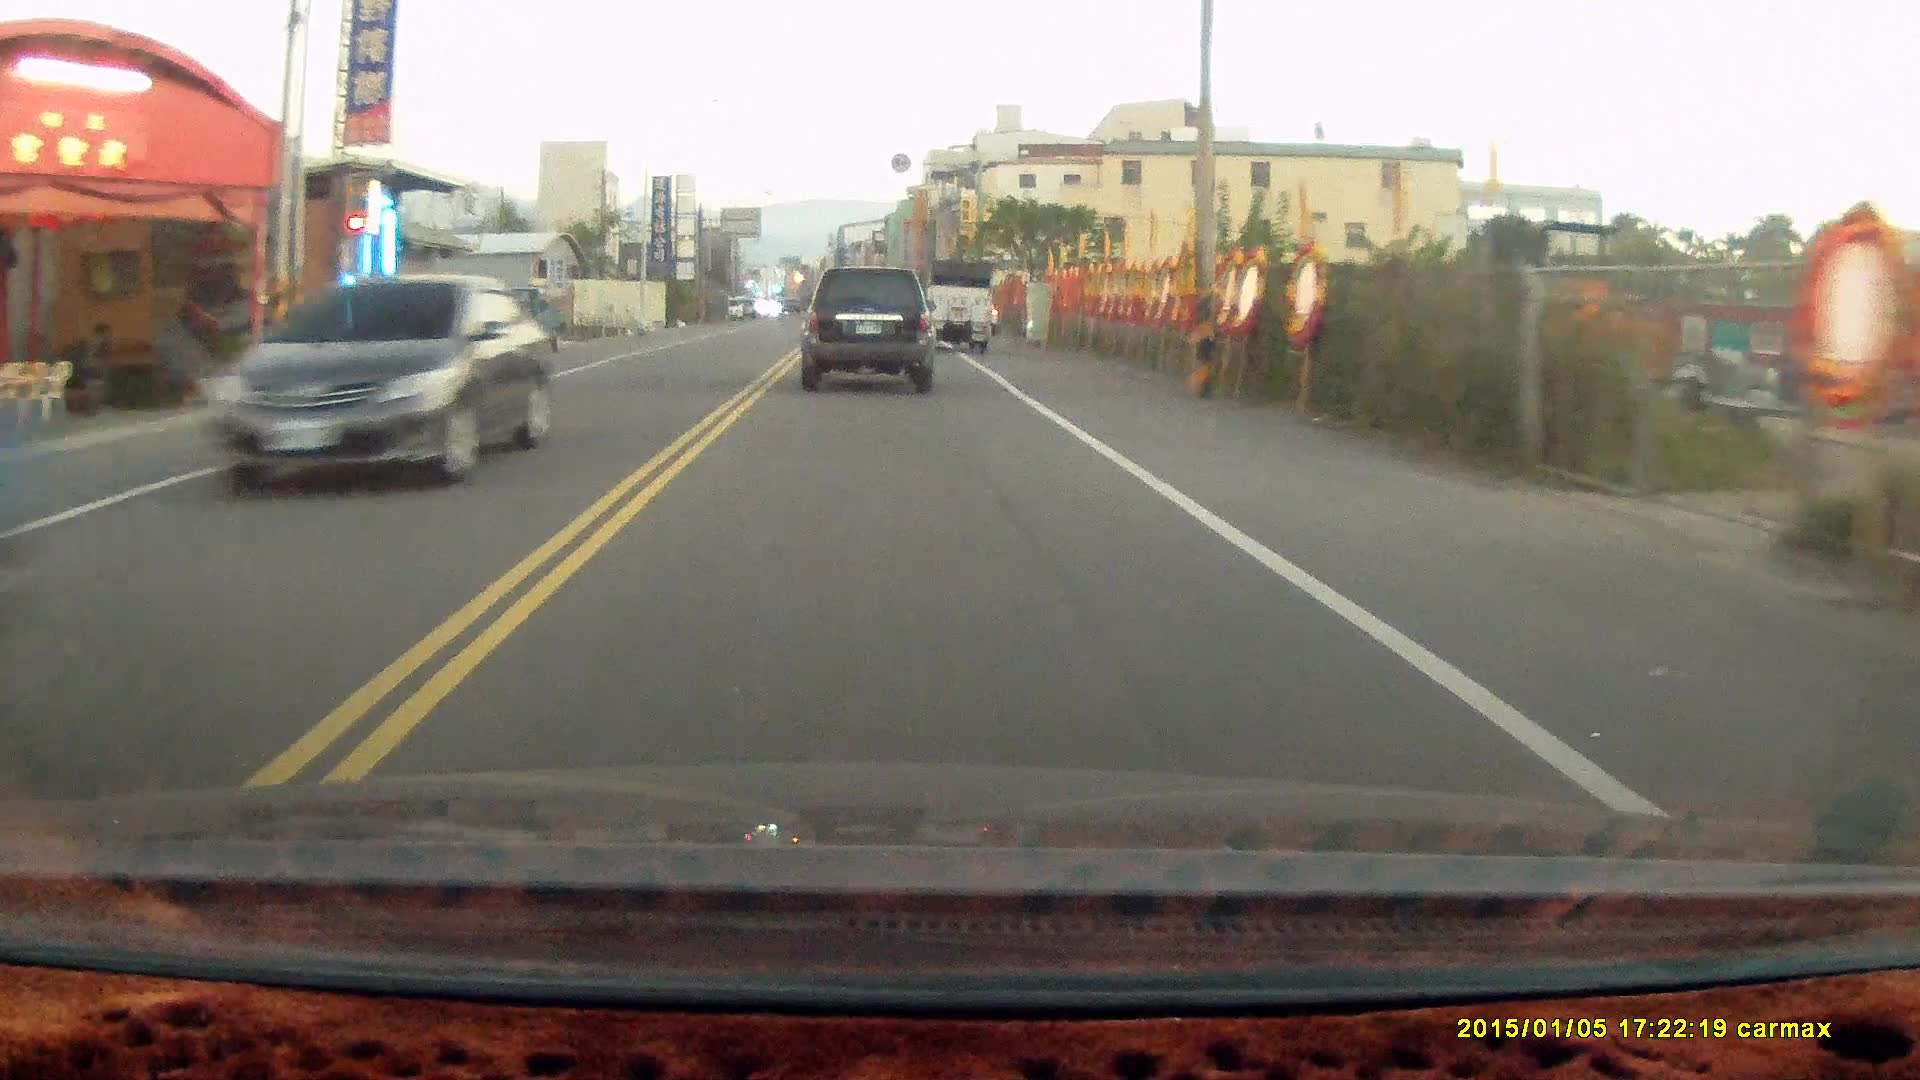vehicle: (199, 277, 551, 500), (802, 266, 938, 397), (924, 258, 1000, 353)
